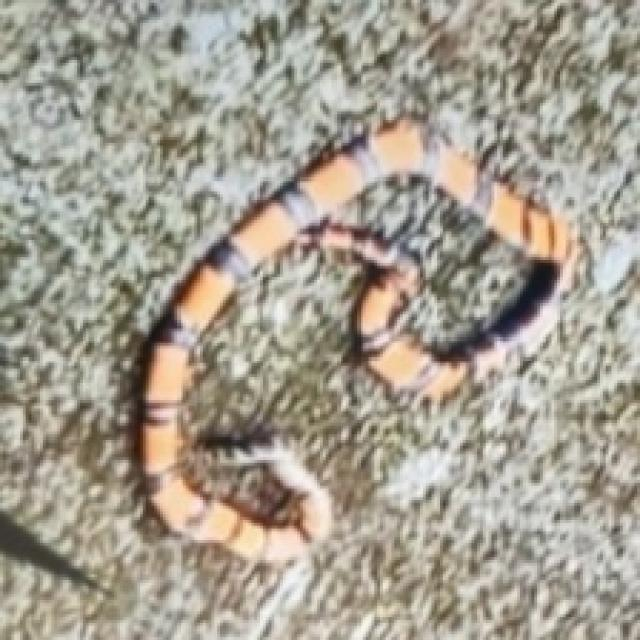barredcoral snake: (140, 117, 574, 563)
